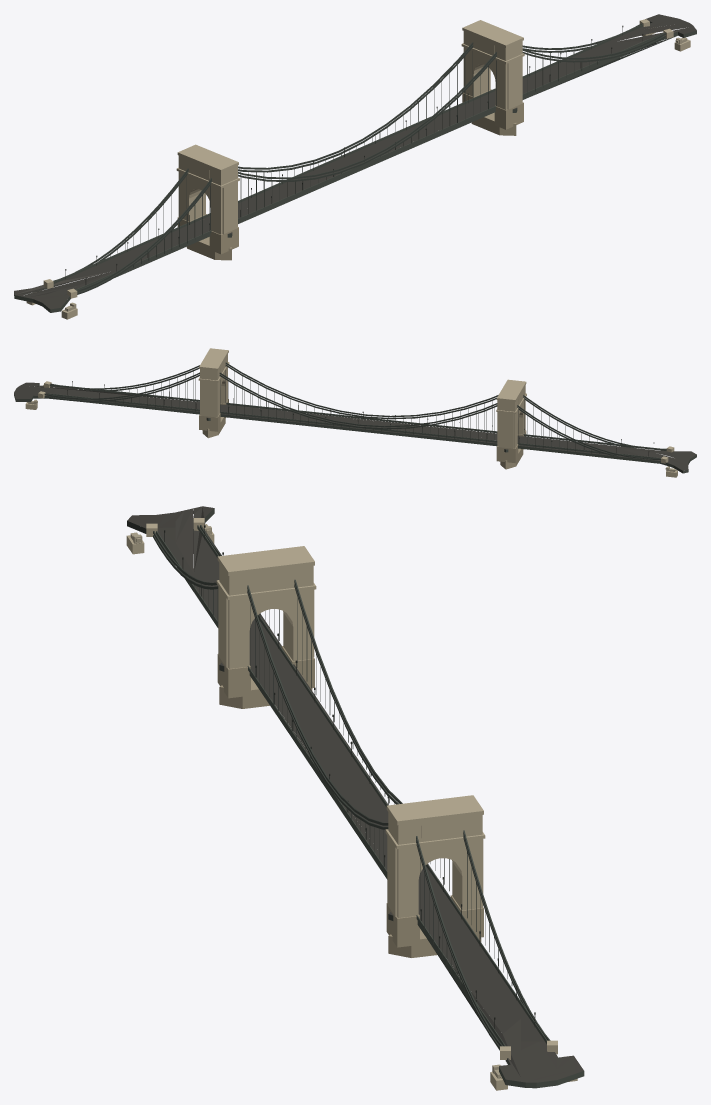
Rendered from chainBridge.glb.
The picture shows the model from 3 angles, top to bottom: view 1: azimuth 30°, elevation 25°; view 2: azimuth 150°, elevation 25°; view 3: azimuth 270°, elevation 25°; orthographic projection. The views are drawn at different scales.
Visible parts, largest first — view 1: chainBridge; view 2: chainBridge; view 3: chainBridge.
Part boxes in pixels (x1,y1,x2,y2): chainBridge: (14, 14, 696, 319); chainBridge: (14, 348, 696, 477); chainBridge: (126, 506, 584, 1090).
Bounding box in the file's own units: 449 × 51 × 151.
